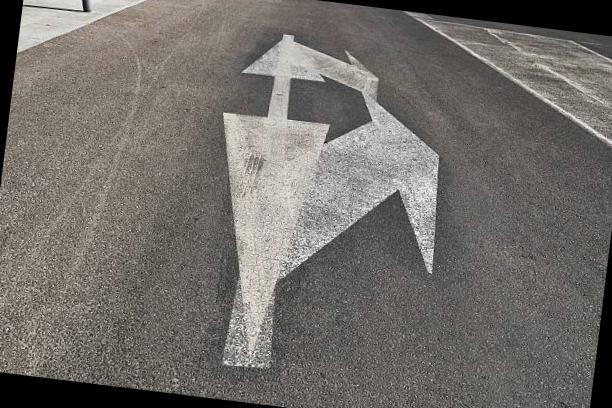faded_road_lines: (157, 11, 498, 406)
